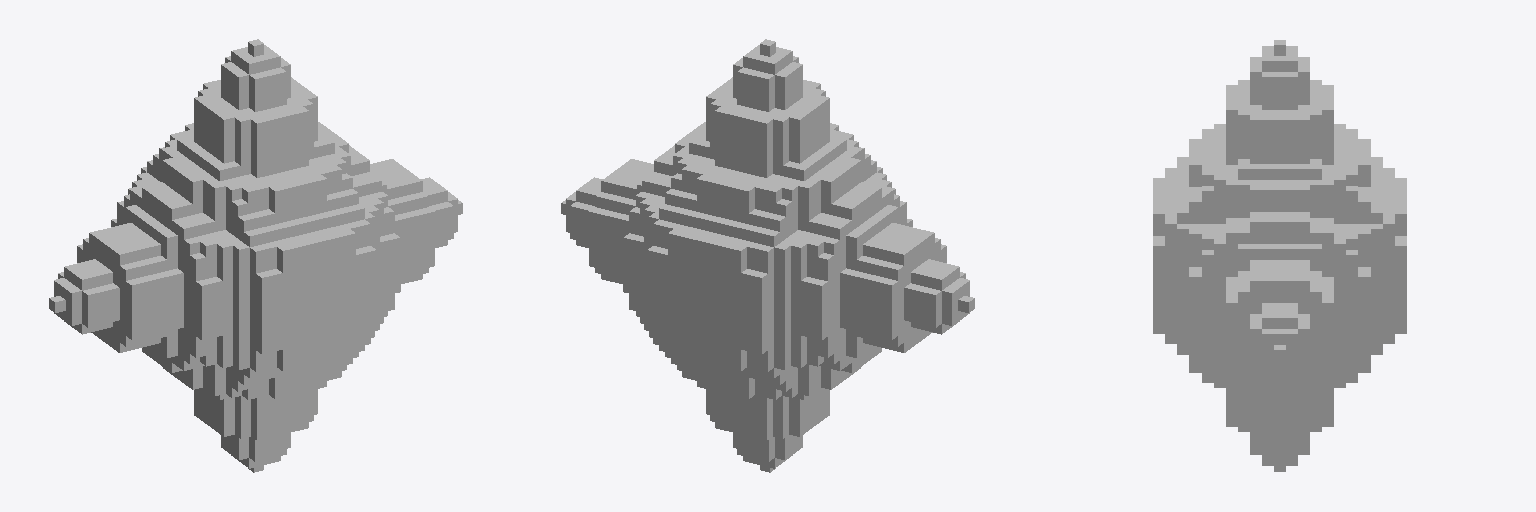
File: spike.obj
The picture shows the model from 3 angles: view 1: azimuth 30°, elevation 25°; view 2: azimuth 150°, elevation 25°; view 3: azimuth 270°, elevation 25°; orthographic projection.
Visible parts, largest first — view 1: object 1; view 2: object 1; view 3: object 1.
Boxes of the visible parts, box(x1,y1,x2,y2) form: object 1: box(49, 39, 462, 472); object 1: box(561, 39, 974, 472); object 1: box(1153, 40, 1406, 471).
Size of the model in its own units: 3.9 by 3.9 by 2.1.